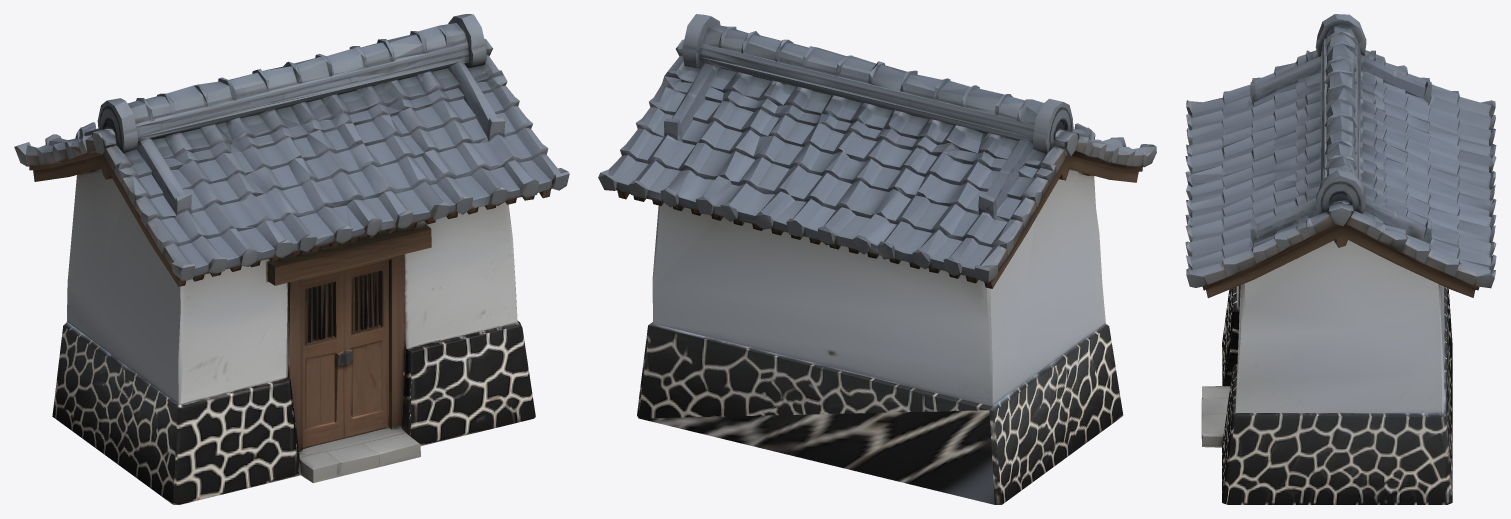
Rendered from storehouse_kura.glb.
3 views of the same model, side by side, from view 1: azimuth 30°, elevation 25°; view 2: azimuth 150°, elevation 25°; view 3: azimuth 270°, elevation 25° (orthographic). The views are drawn at different scales.
Parts seen in each view (by area): view 1: node_0; view 2: node_0; view 3: node_0.
Part boxes in pixels (<box>): node_0: <box>14,14,569,504</box>; node_0: <box>598,14,1156,504</box>; node_0: <box>1185,14,1496,504</box>.
Bounding box in the file's own units: 8 × 7 × 6.
Materials: 1 (1 with a texture image).
